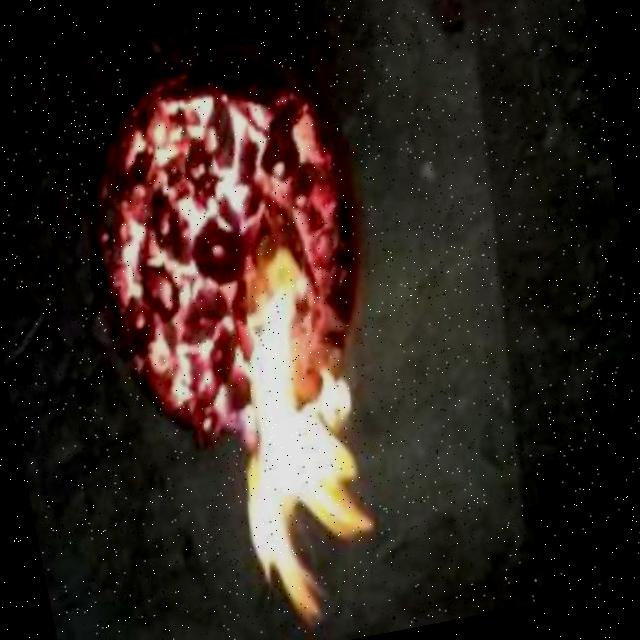fire: (146, 51, 464, 640), (44, 63, 268, 457)
